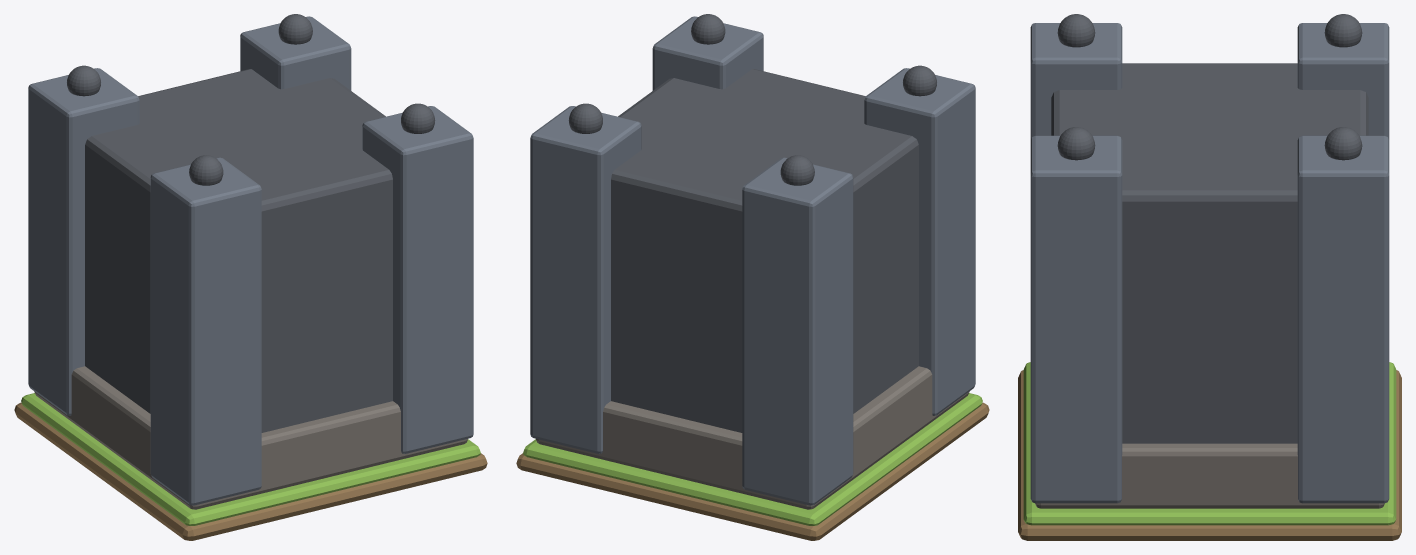
The model's file is wall_lv4.glb.
3 renders of one model, left to right at view 1: azimuth 30°, elevation 25°; view 2: azimuth 150°, elevation 25°; view 3: azimuth 270°, elevation 25°, orthographic. The views are drawn at different scales.
Parts seen in each view (by area): view 1: IronWallBody, IronCornerPost_-1_-1, IronCornerPost_1_-1, IronCornerPost_-1_1, SlatePlinth, Base_Grass, Base_Dirt, IronCornerPost_1_1, Rivet_1_1, Rivet_-1_-1, Rivet_1_-1, Rivet_-1_1; view 2: IronWallBody, IronCornerPost_-1_1, IronCornerPost_1_1, IronCornerPost_-1_-1, SlatePlinth, Base_Grass, Base_Dirt, IronCornerPost_1_-1, Rivet_1_-1, Rivet_-1_1, Rivet_1_1, Rivet_-1_-1; view 3: IronWallBody, IronCornerPost_1_1, IronCornerPost_1_-1, SlatePlinth, Base_Grass, Base_Dirt, IronCornerPost_-1_1, IronCornerPost_-1_-1, Rivet_-1_1, Rivet_-1_-1, Rivet_1_1, Rivet_1_-1.
Boxes of the visible parts, box(x1,y1,x2,y2) form: IronWallBody: box(85, 69, 392, 432); IronCornerPost_-1_-1: box(150, 157, 261, 505); IronCornerPost_1_-1: box(362, 106, 473, 453); IronCornerPost_-1_1: box(28, 68, 139, 415); SlatePlinth: box(34, 366, 467, 509); Base_Grass: box(21, 393, 480, 525); Base_Dirt: box(14, 402, 487, 540); IronCornerPost_1_1: box(240, 16, 351, 90); Rivet_1_1: box(278, 14, 312, 44); Rivet_-1_-1: box(189, 155, 223, 185); Rivet_1_-1: box(401, 103, 435, 133); Rivet_-1_1: box(67, 65, 100, 96); IronWallBody: box(611, 69, 918, 432); IronCornerPost_-1_1: box(742, 157, 853, 505); IronCornerPost_1_1: box(530, 106, 641, 453); IronCornerPost_-1_-1: box(864, 68, 975, 415); SlatePlinth: box(536, 366, 969, 509); Base_Grass: box(523, 393, 982, 525); Base_Dirt: box(516, 402, 989, 540); IronCornerPost_1_-1: box(652, 16, 763, 90); Rivet_1_-1: box(691, 14, 725, 44); Rivet_-1_1: box(780, 155, 814, 185); Rivet_1_1: box(568, 103, 602, 133); Rivet_-1_-1: box(903, 65, 936, 96); IronWallBody: box(1051, 63, 1368, 443); IronCornerPost_1_1: box(1297, 135, 1389, 503); IronCornerPost_1_-1: box(1030, 135, 1122, 503); SlatePlinth: box(1035, 443, 1384, 508); Base_Grass: box(1023, 362, 1396, 525); Base_Dirt: box(1018, 370, 1401, 540); IronCornerPost_-1_1: box(1297, 23, 1389, 139); IronCornerPost_-1_-1: box(1030, 23, 1122, 139); Rivet_-1_1: box(1324, 14, 1362, 47); Rivet_-1_-1: box(1057, 14, 1095, 47); Rivet_1_1: box(1324, 127, 1362, 160); Rivet_1_-1: box(1057, 127, 1095, 160).
Bounding box in the file's own units: 0.92 × 1.04 × 0.92.
